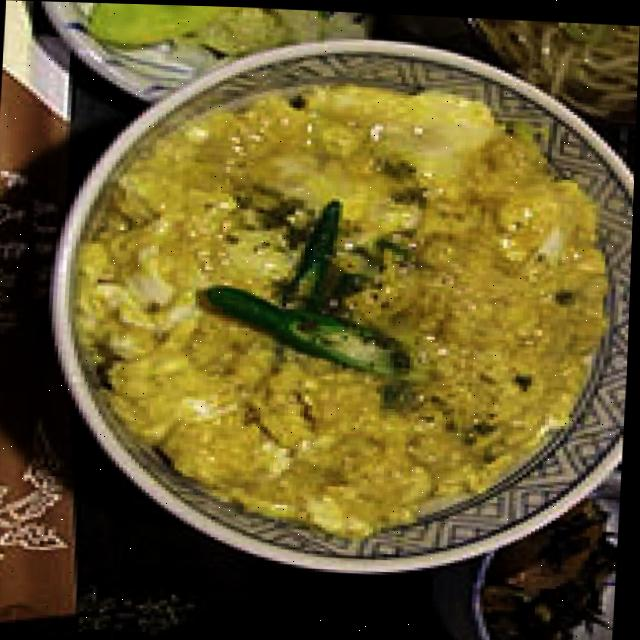米饭主食: (42, 26, 639, 595)
